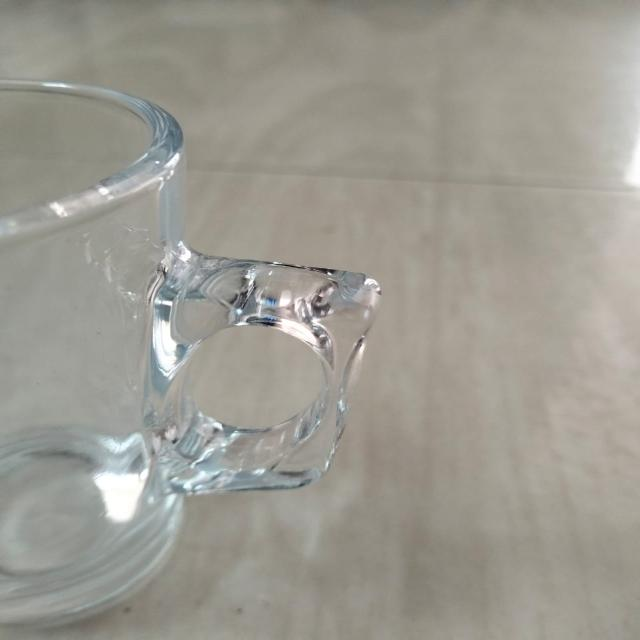glass-VX4N: (0, 81, 381, 640)
